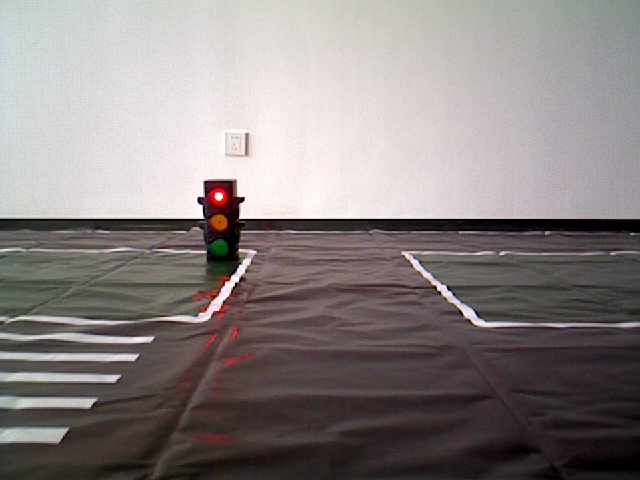red: (203, 179, 236, 269)
